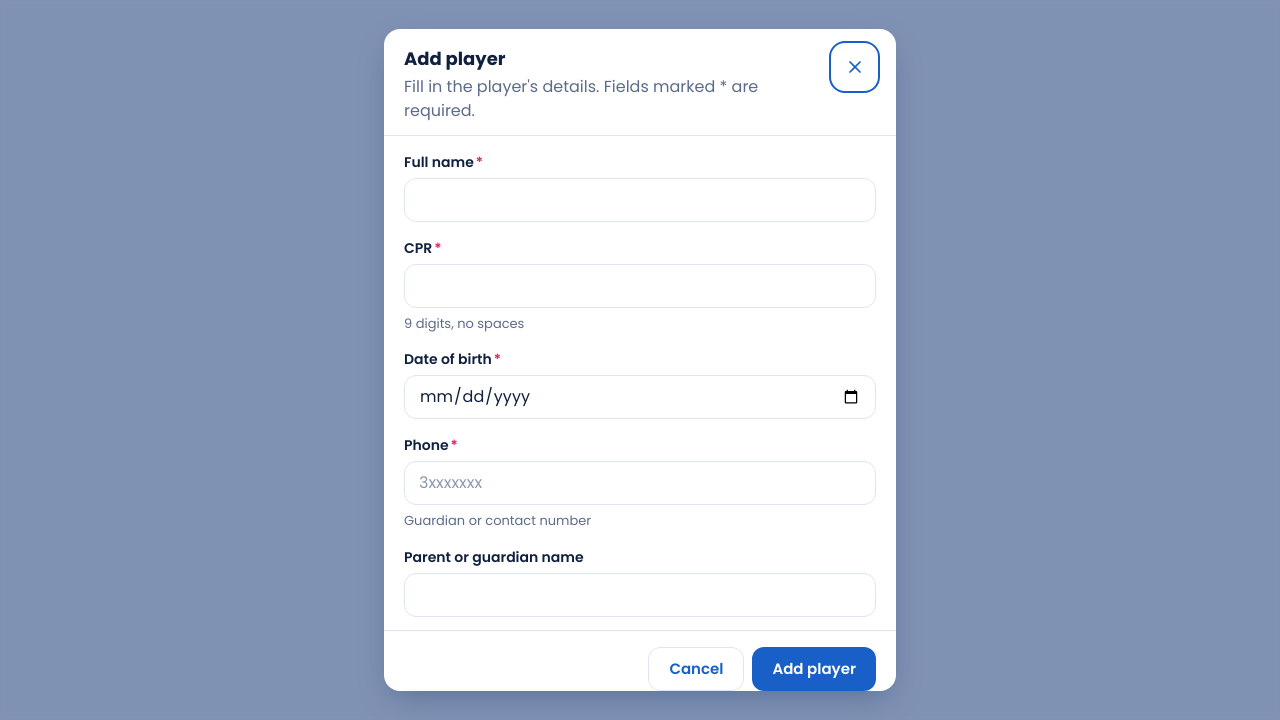
Test: PlayerFormDialog › medical condition › hides the description until the switch is on, then requires it
The image size is (1280, 720).
In the field labelled "Full name*": (640, 200) [404,178,876,222], type "  Yousef Al Mahmood "
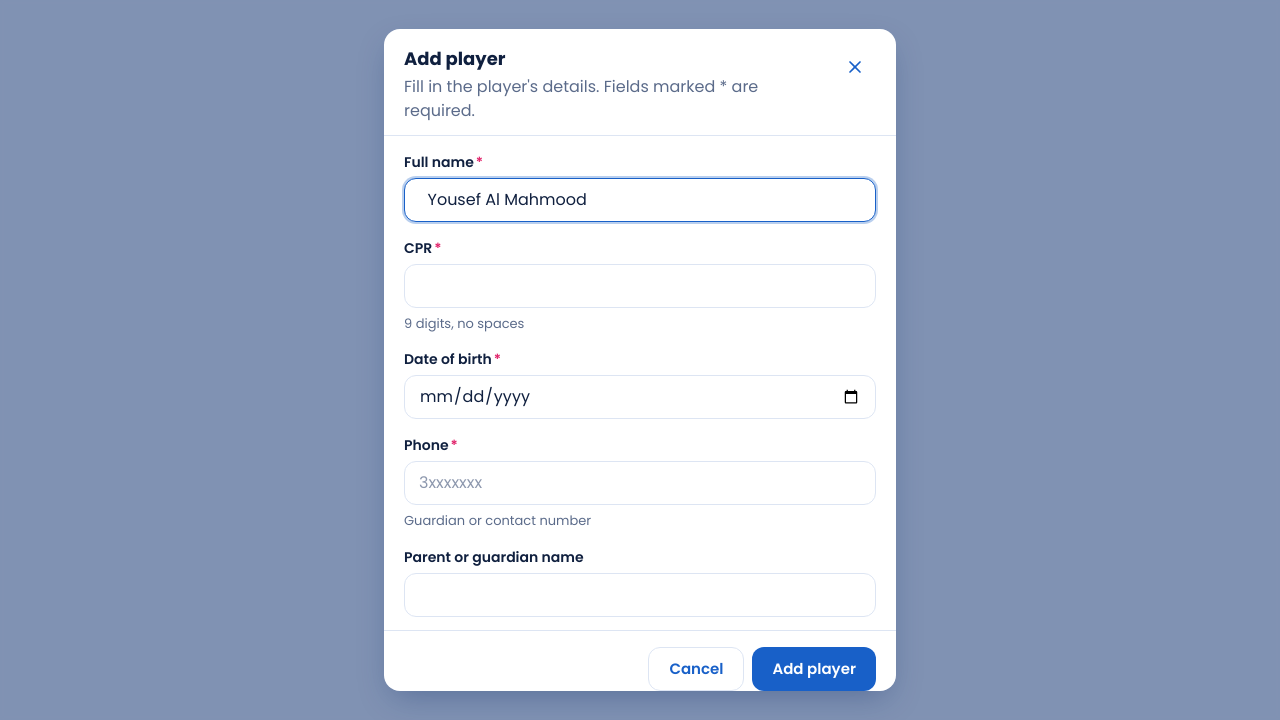
In the field labelled "CPR*": (640, 286) [404,264,876,308], type "150312345"
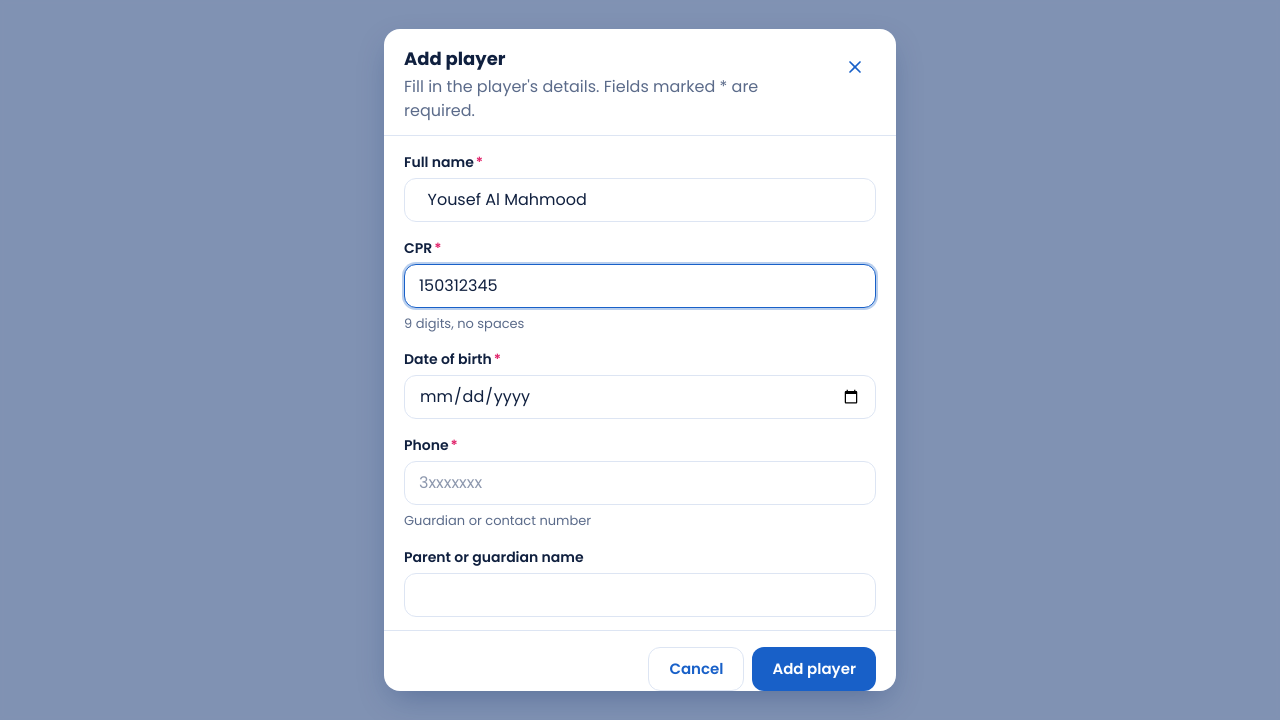
In the date field labelled "Date of birth*": (640, 397) [404,375,876,419], type "2015-03-12"
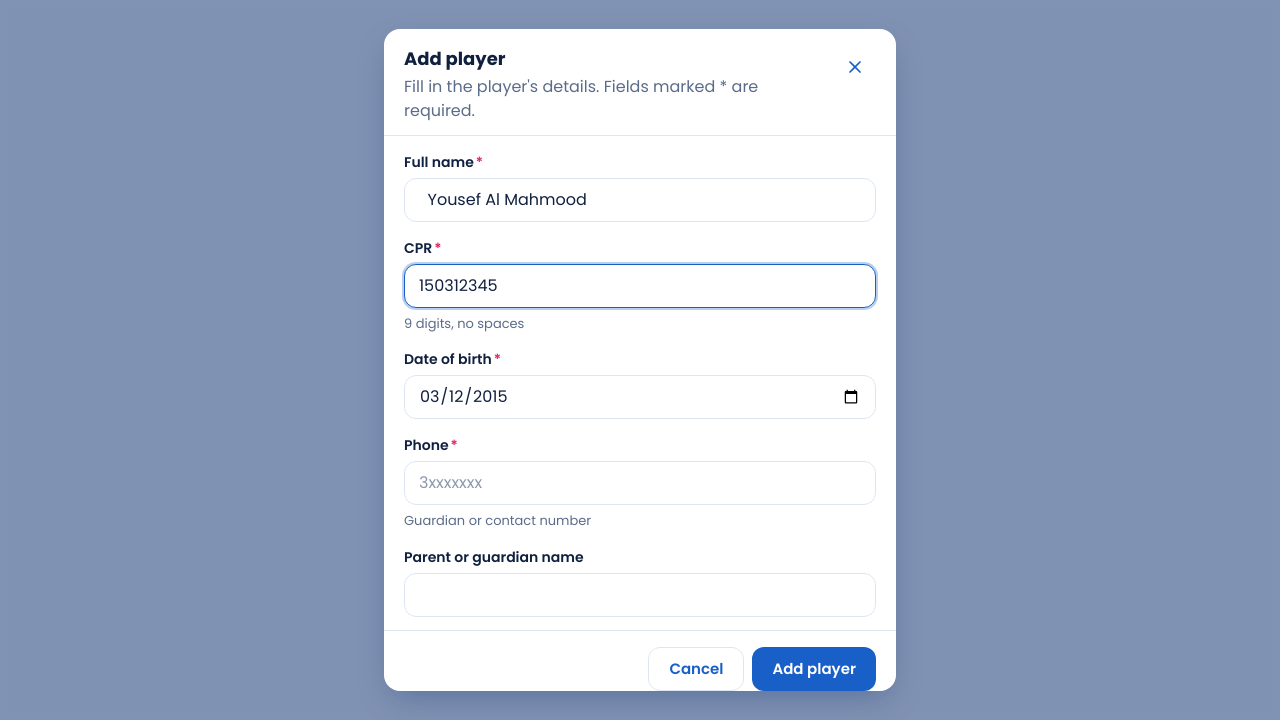
In the field labelled "Phone*": (640, 483) [404,461,876,505], type "39111001"
(page scrolled)
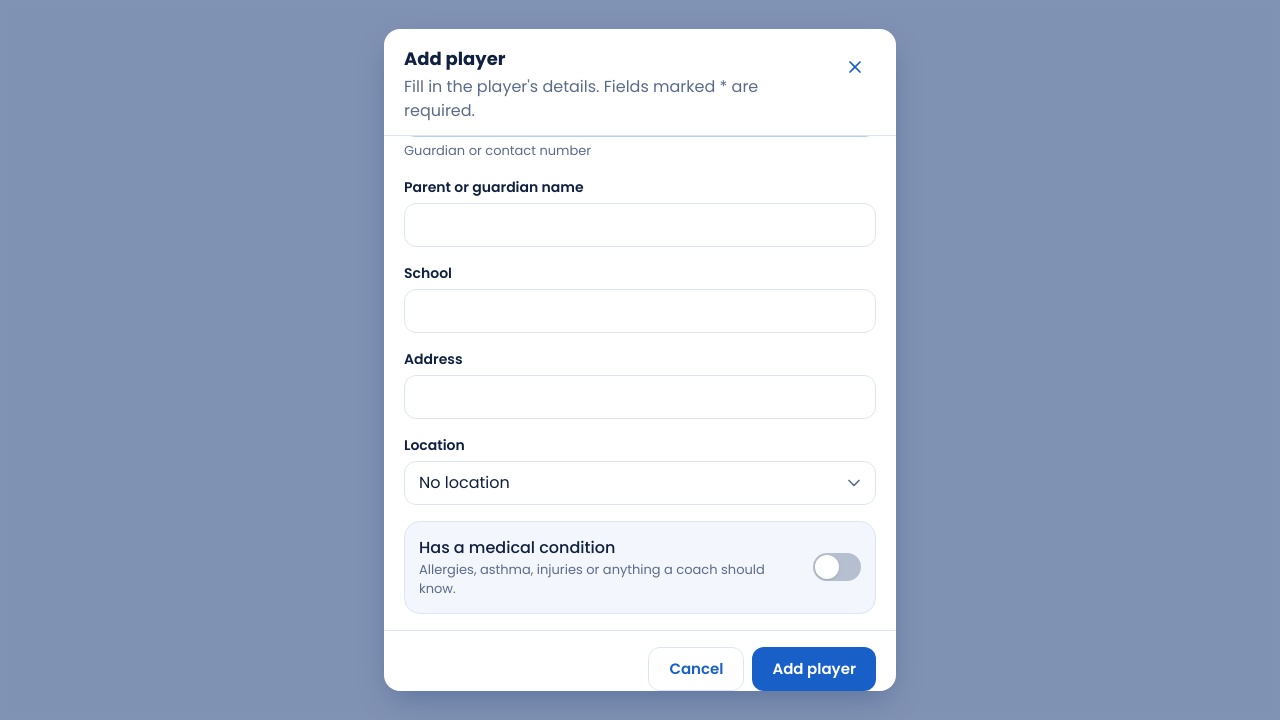
Expected: the field labelled "Describe the condition" is not shown
Click the switch named "Has a medical condition": (837, 567) [813,553,861,581]
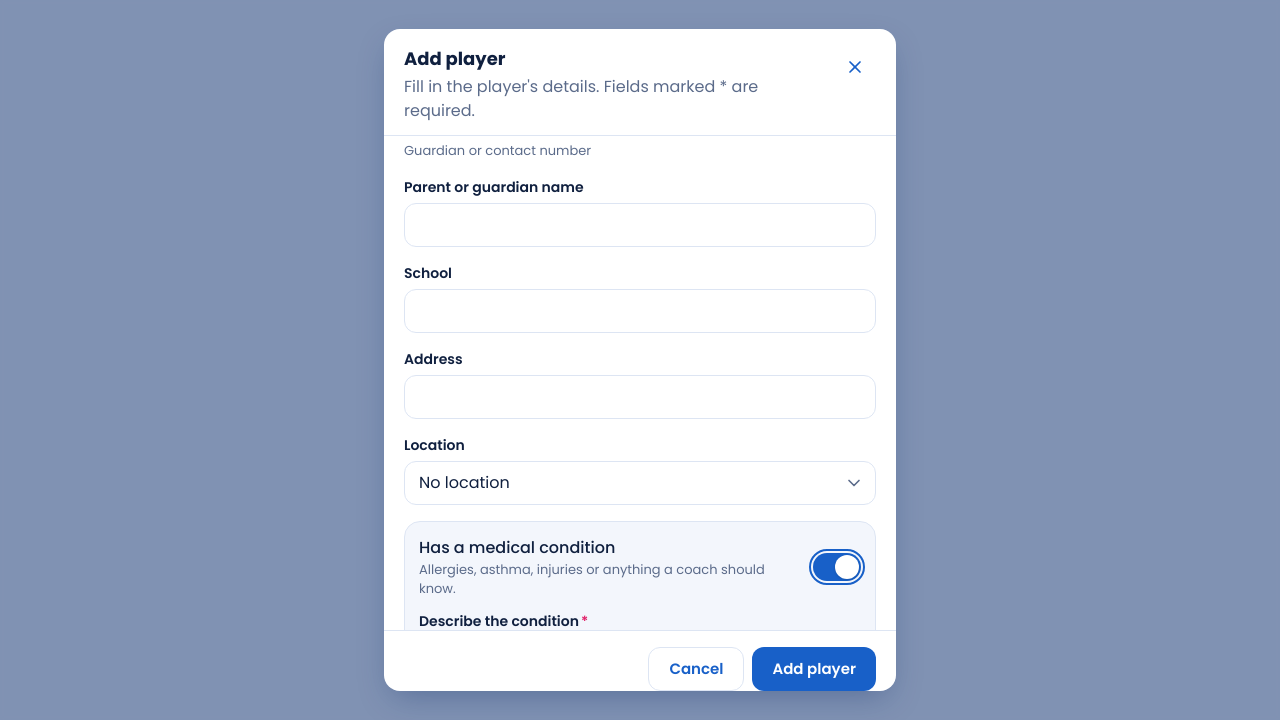
Click the button "Add player": (814, 669) [752,647,876,691]
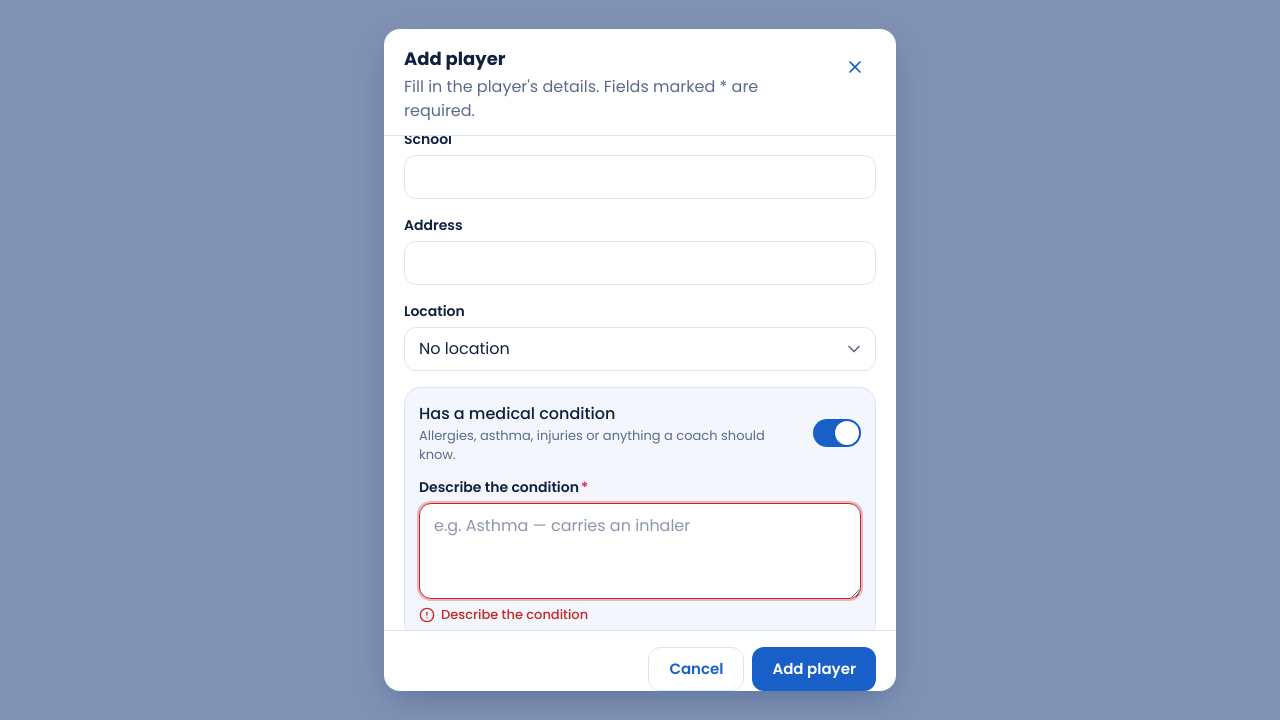
Expected: the message reads "Describe the condition", [441,605,588,624]
